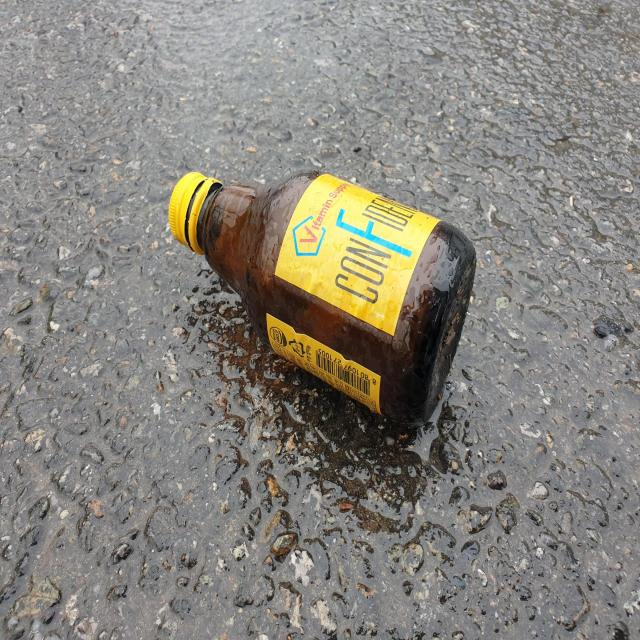glass: (168, 170, 477, 424)
